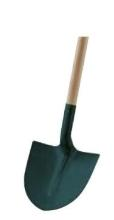PELLE: (6, 5, 114, 216)
